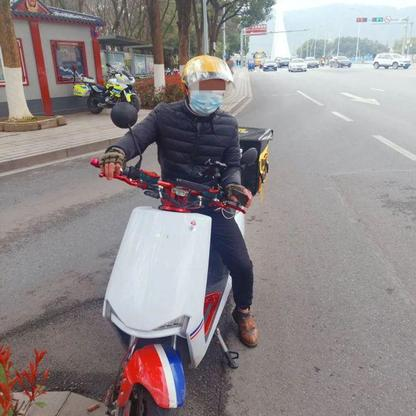target: (89, 55, 273, 409)
